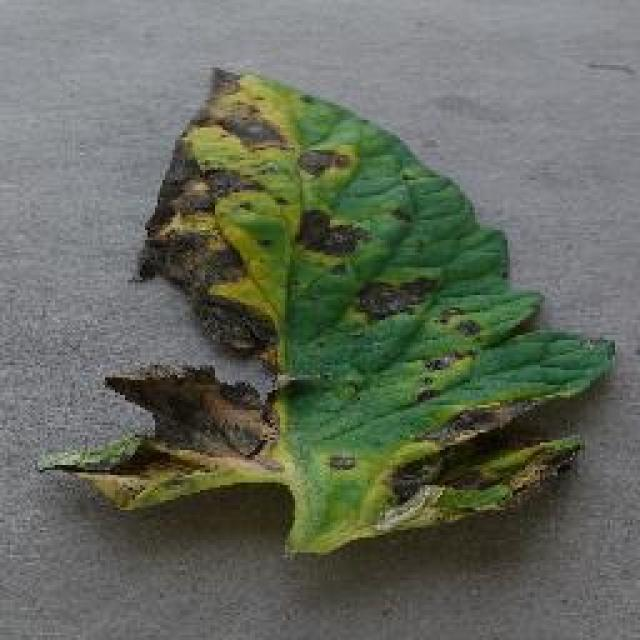Tomato Early blight leaf: (35, 63, 620, 562)
